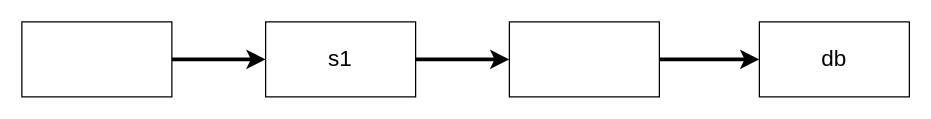
This 931x119 diagram has some shape labels left out. Each missing label, with the centre of its shape:
frontend: pixel 96 59
r1: pixel 583 59
